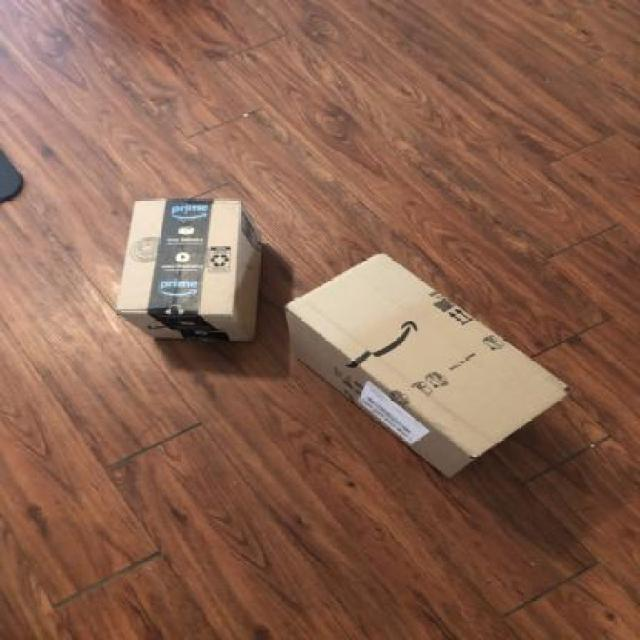cardboxes: (279, 246, 581, 488), (110, 195, 270, 346)
